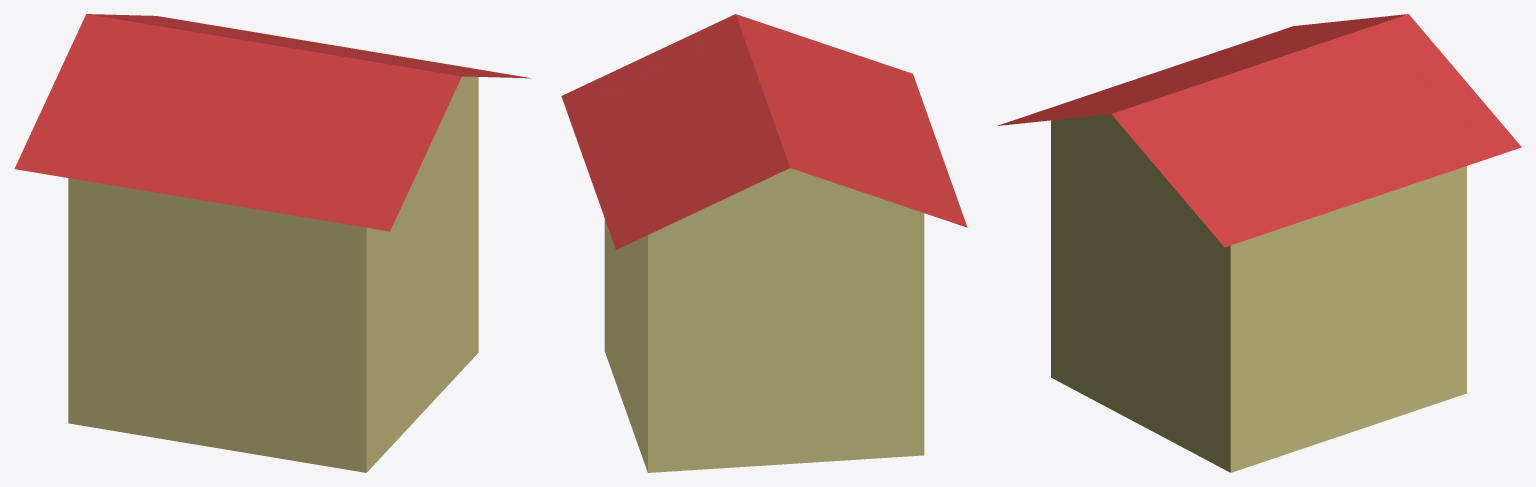
3 renders of one model, left to right at view 1: azimuth 30°, elevation 25°; view 2: azimuth 150°, elevation 25°; view 3: azimuth 270°, elevation 25°, orthographic. The views are drawn at different scales.
Bounding box in the file's own units: 13.37 × 13.43 × 9.07.
